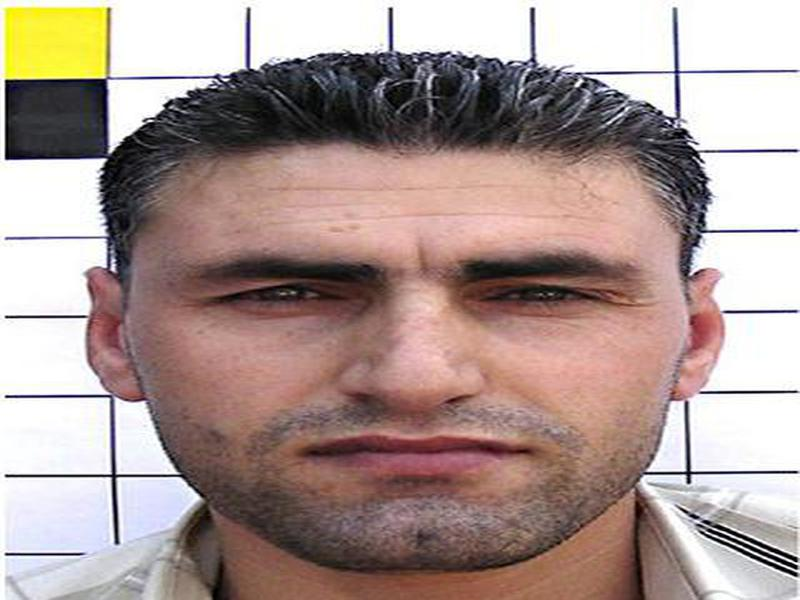without_mask: (124, 153, 687, 575)
